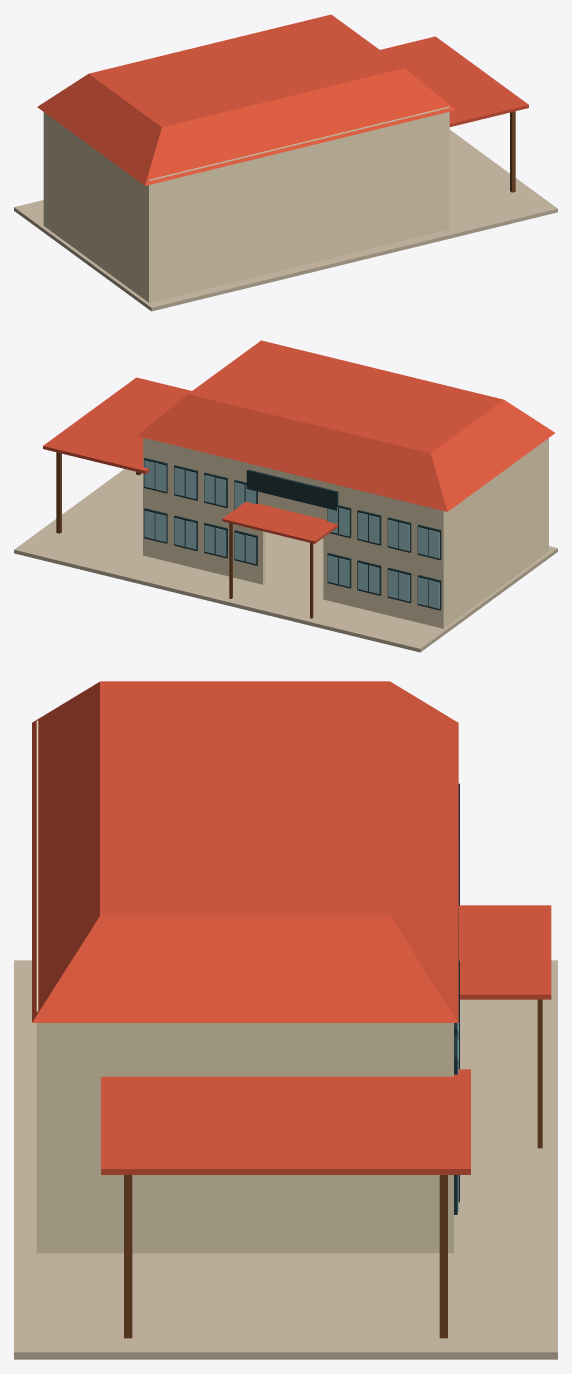
Rendered from keeper_center.fbx.
3 renders of one model, top to bottom at view 1: azimuth 30°, elevation 25°; view 2: azimuth 150°, elevation 25°; view 3: azimuth 270°, elevation 25°, orthographic. The views are drawn at different scales.
Visible parts, largest first — view 1: keeper_center; view 2: keeper_center; view 3: keeper_center.
Boxes of the visible parts, x1,y1,x2,y2 form: keeper_center: (14,14,557,311); keeper_center: (14,340,557,652); keeper_center: (14,681,557,1359).
Size of the model in its own units: 24 by 9 by 14.
